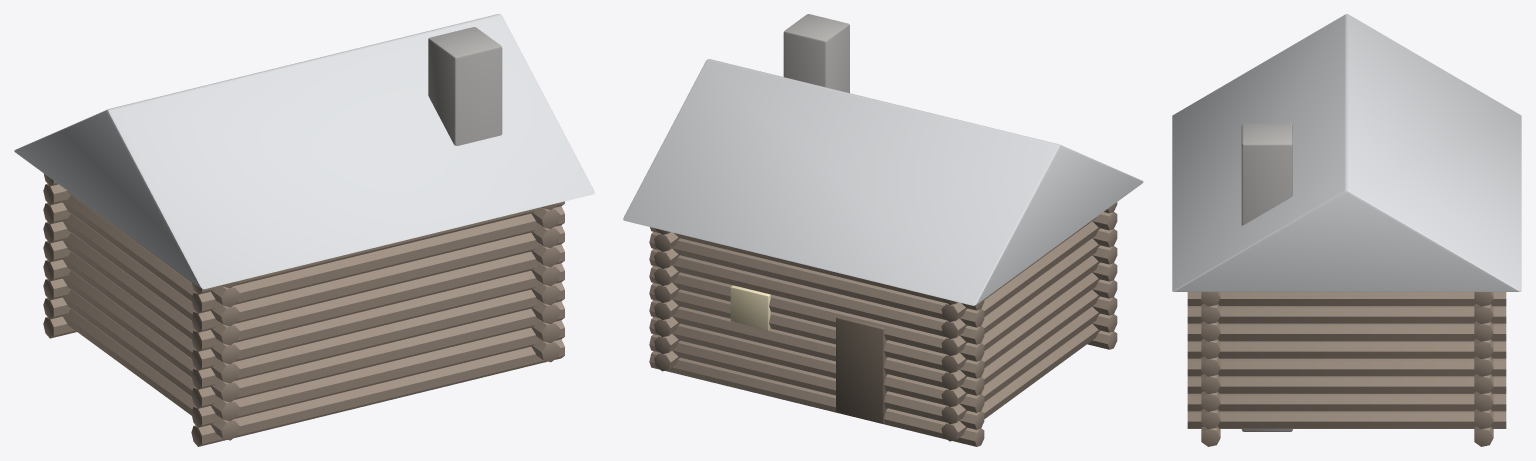
Rendered from log_cabin.gltf.
3 renders of one model, left to right at view 1: azimuth 30°, elevation 25°; view 2: azimuth 150°, elevation 25°; view 3: azimuth 270°, elevation 25°, orthographic. The views are drawn at different scales.
Parts seen in each view (by area): view 1: Body; view 2: Body; view 3: Body.
Part boxes in pixels (<box>): Body: <box>14,14,594,446</box>; Body: <box>623,14,1143,446</box>; Body: <box>1172,14,1521,446</box>.
Size of the model in its own units: 7.4 by 5.6 by 6.15.
